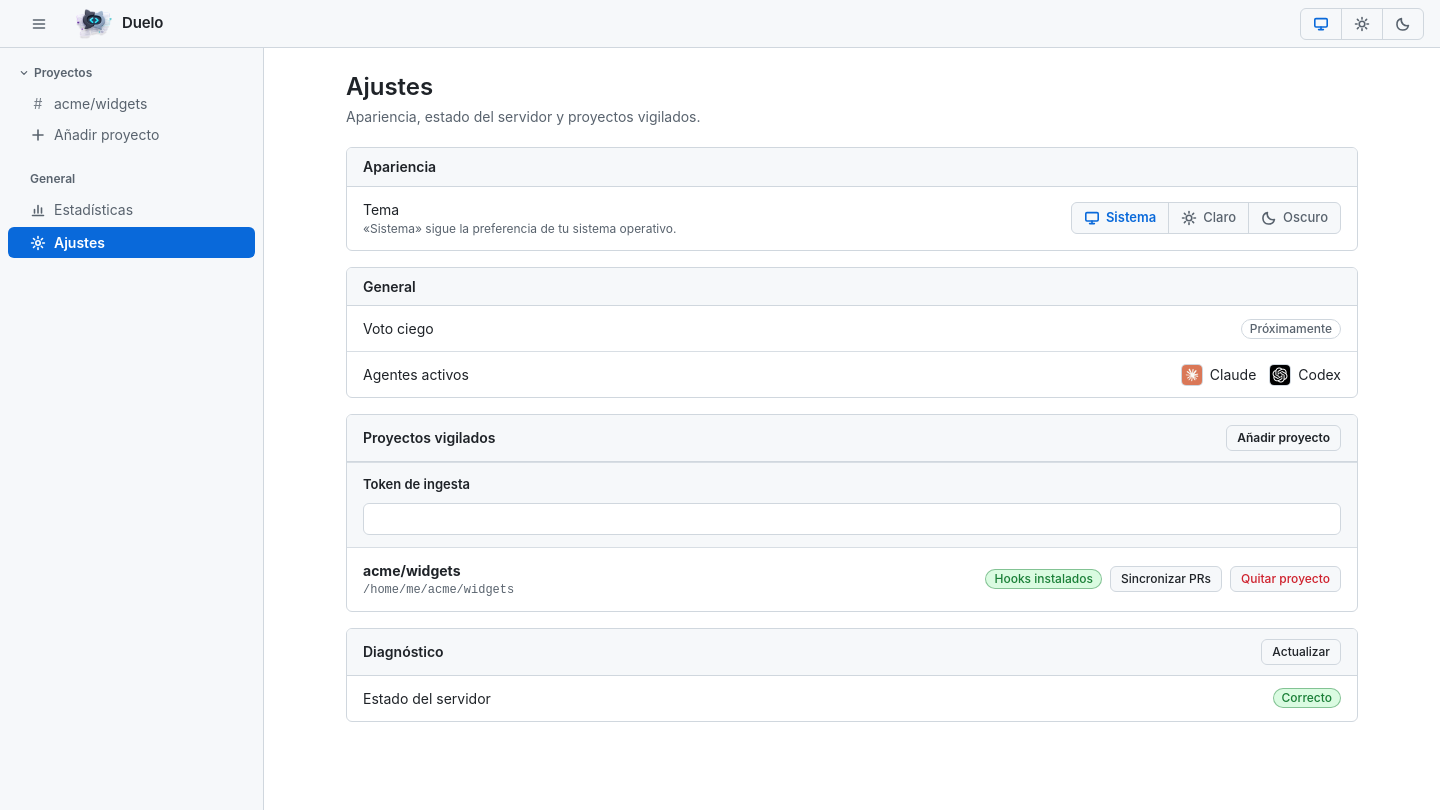
project settings › does not remove without a token and explains a 404
The width and height of the screenshot is (1440, 810).
Click the button with aria-label "Quitar proyecto acme/widgets".
click(1286, 579)  # box [1230, 566, 1341, 592]
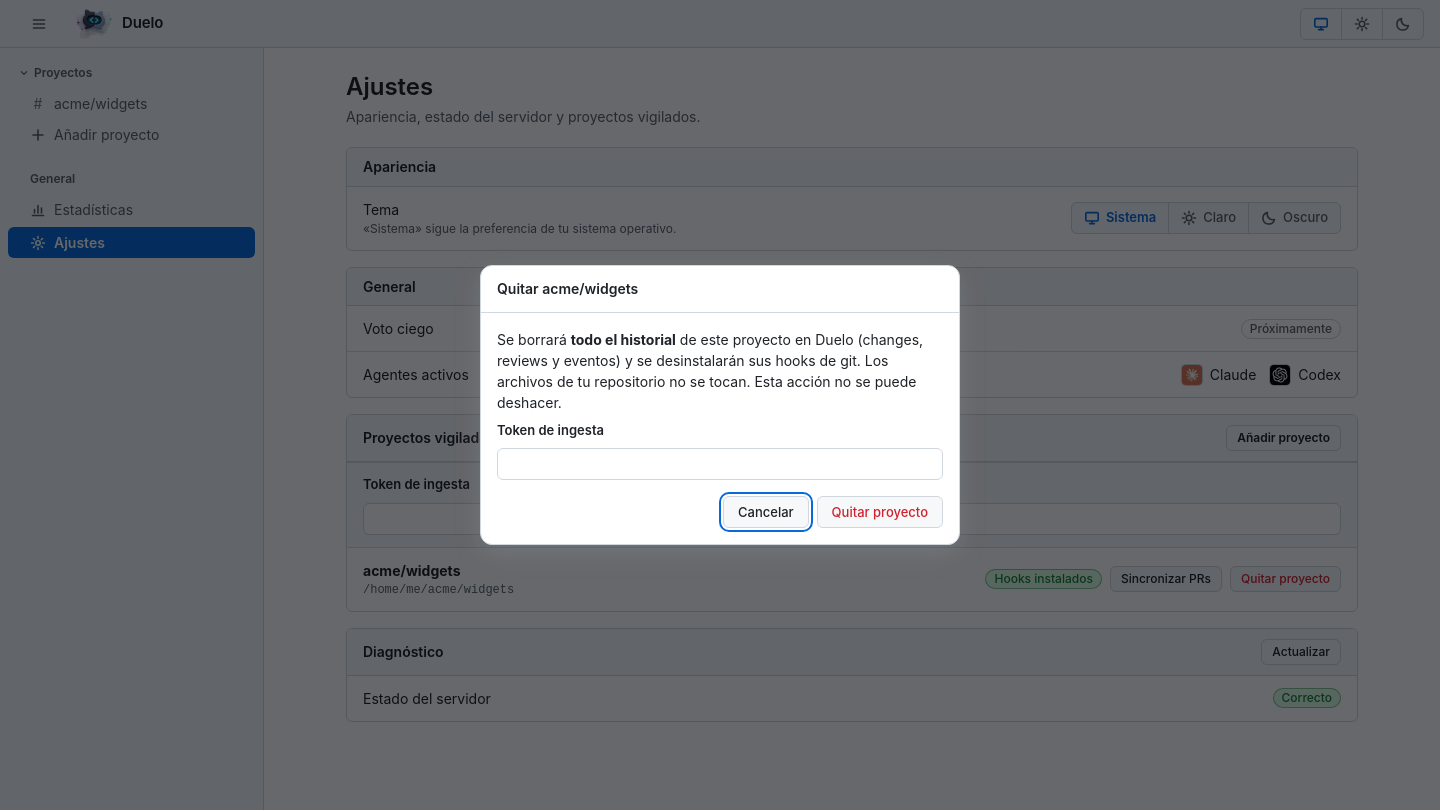
Click the button "Quitar proyecto".
click(880, 512)  # box [817, 496, 943, 528]
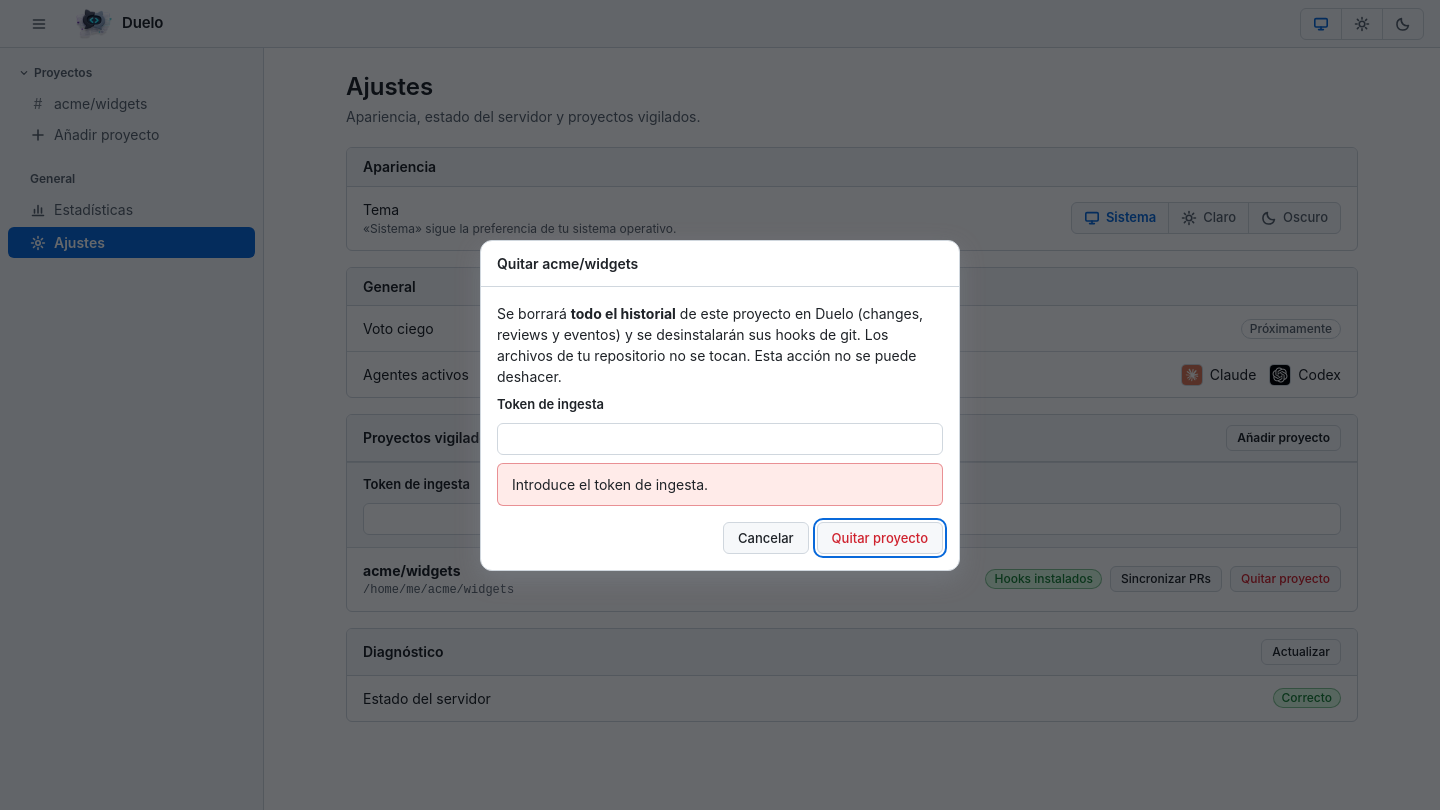
Expected: the message shows "token de ingesta", [512, 476, 708, 492]
Type "tok" into the password field labelled "Token de ingesta".
click(720, 438); type("tok")  # box [497, 422, 943, 454]
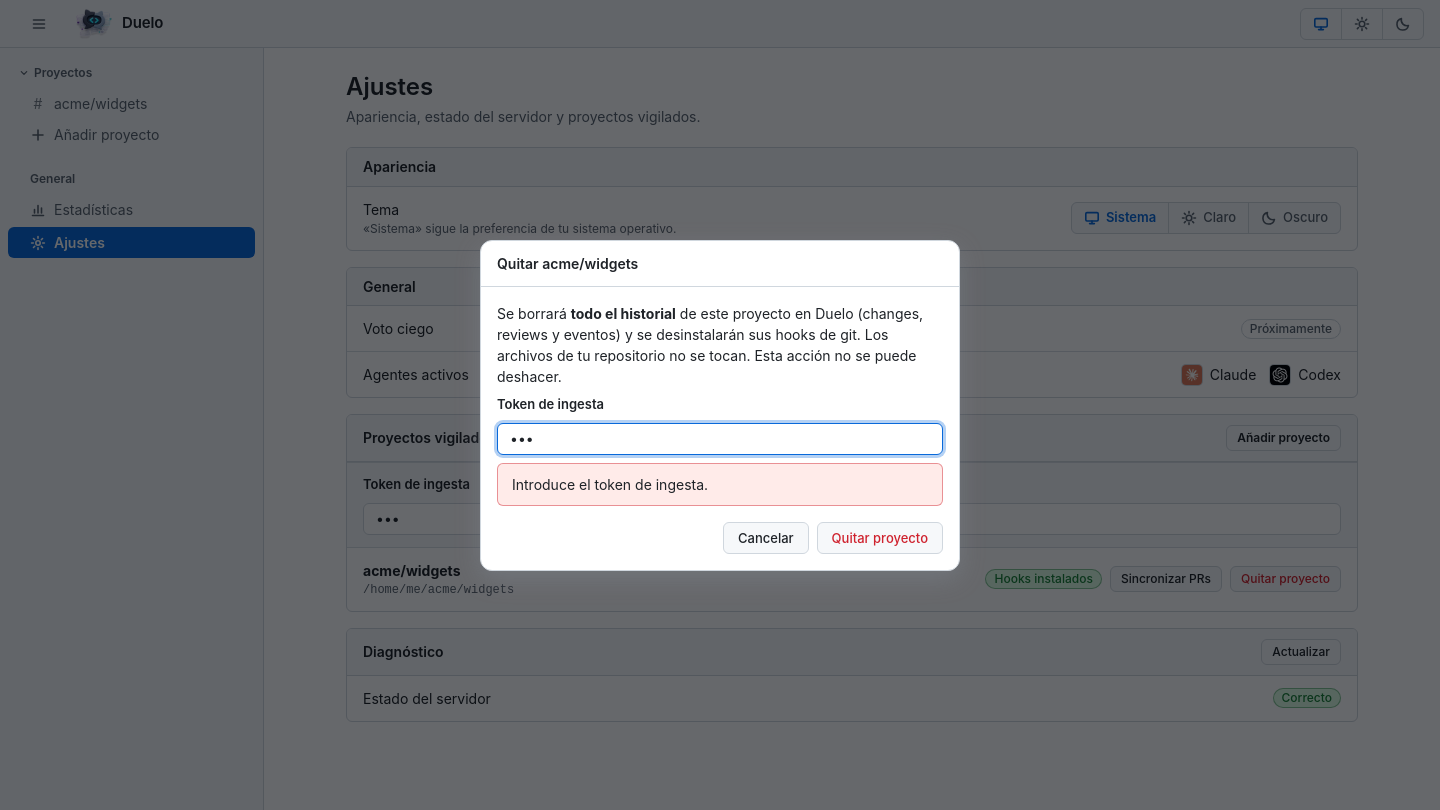
Click the button "Quitar proyecto".
click(880, 538)  # box [817, 522, 943, 554]
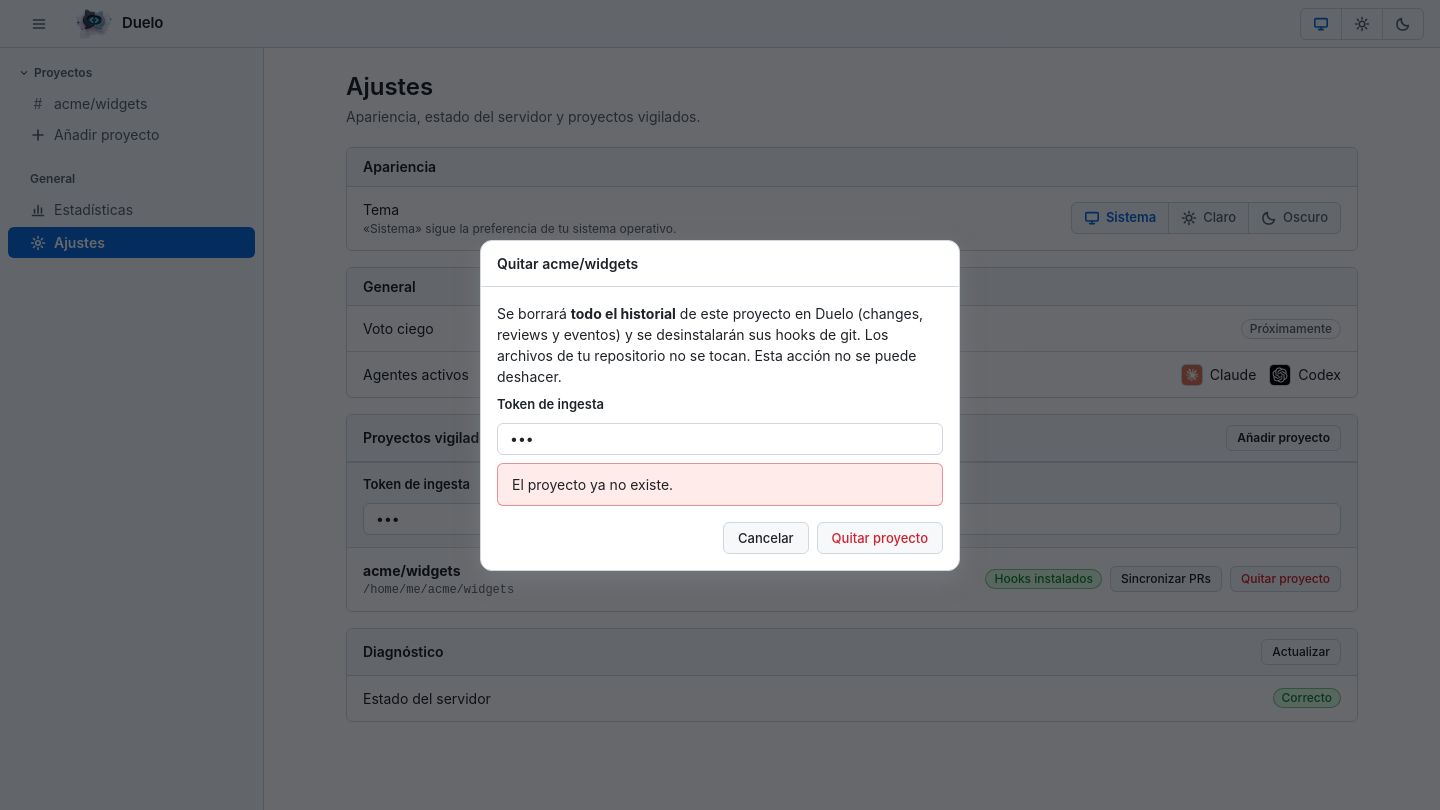
Expected: the message shows "ya no existe", [512, 476, 673, 492]
